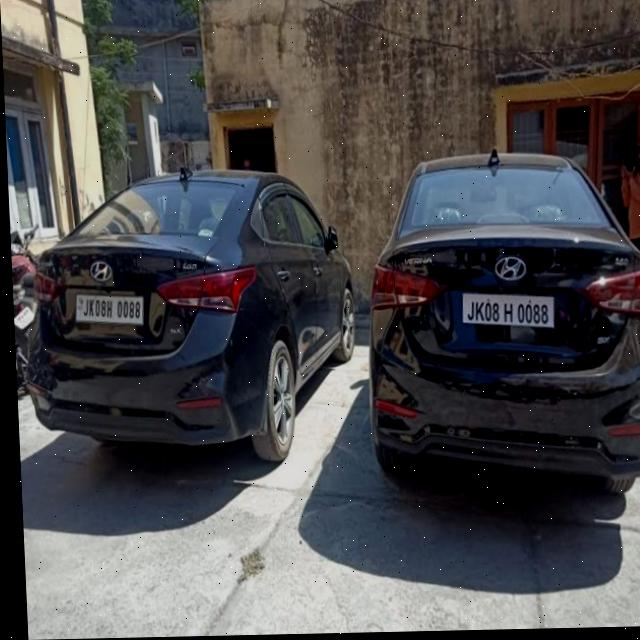plate: (456, 292, 552, 332), (69, 292, 141, 327)
